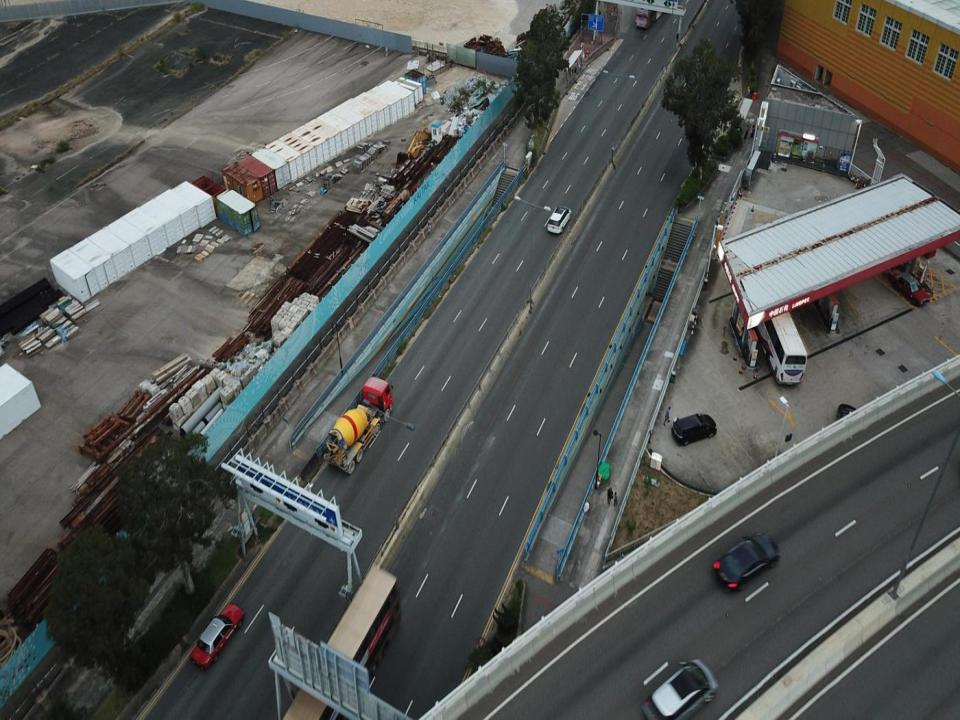bus: (759, 302, 809, 394)
car: (326, 378, 391, 474), (640, 658, 718, 719), (711, 534, 780, 590), (187, 603, 242, 662), (888, 268, 933, 308), (832, 399, 860, 460), (672, 414, 717, 444), (547, 205, 571, 234)
